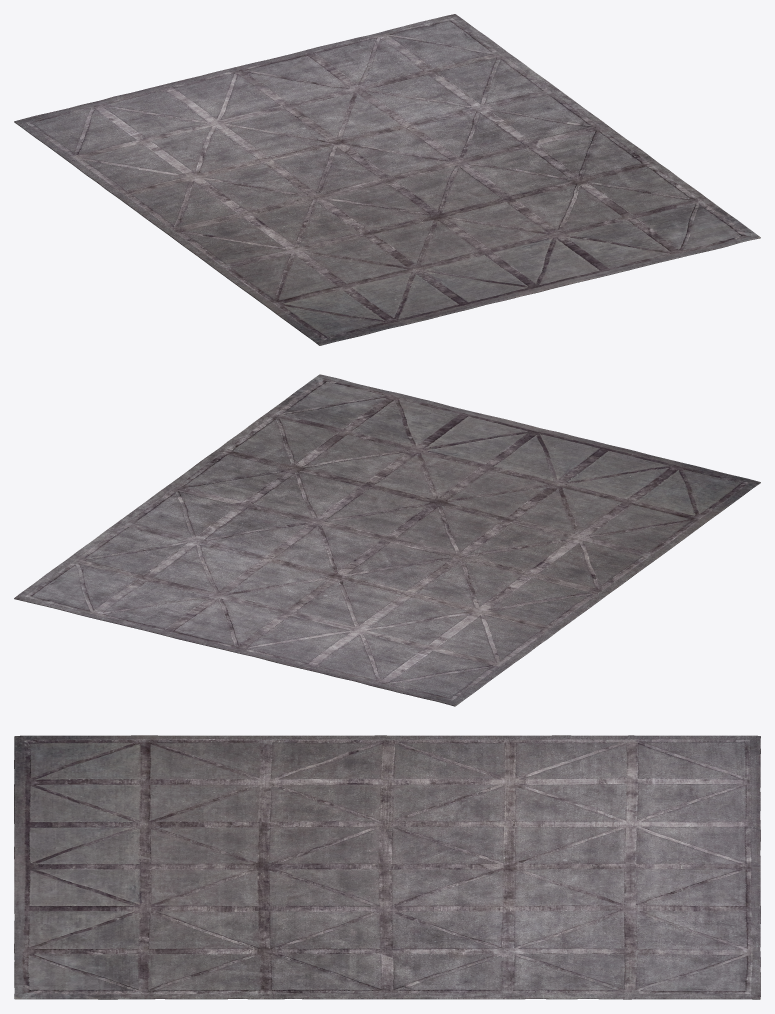
The model's file is Grey-lined Carpet.glb.
The picture shows the model from 3 angles, top to bottom: view 1: azimuth 30°, elevation 25°; view 2: azimuth 150°, elevation 25°; view 3: azimuth 270°, elevation 25°; orthographic projection. The views are drawn at different scales.
Visible parts, largest first — view 1: carpet_DH; view 2: carpet_DH; view 3: carpet_DH.
Boxes of the visible parts, box(x1,y1,x2,y2) form: carpet_DH: box(14, 14, 760, 345); carpet_DH: box(14, 374, 760, 706); carpet_DH: box(14, 735, 760, 999).
Size of the model in its own units: 2501 by 10.09 by 3002.
Materials: 1 (1 with a texture image).
